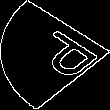P_SE: (12, 24, 98, 86)
